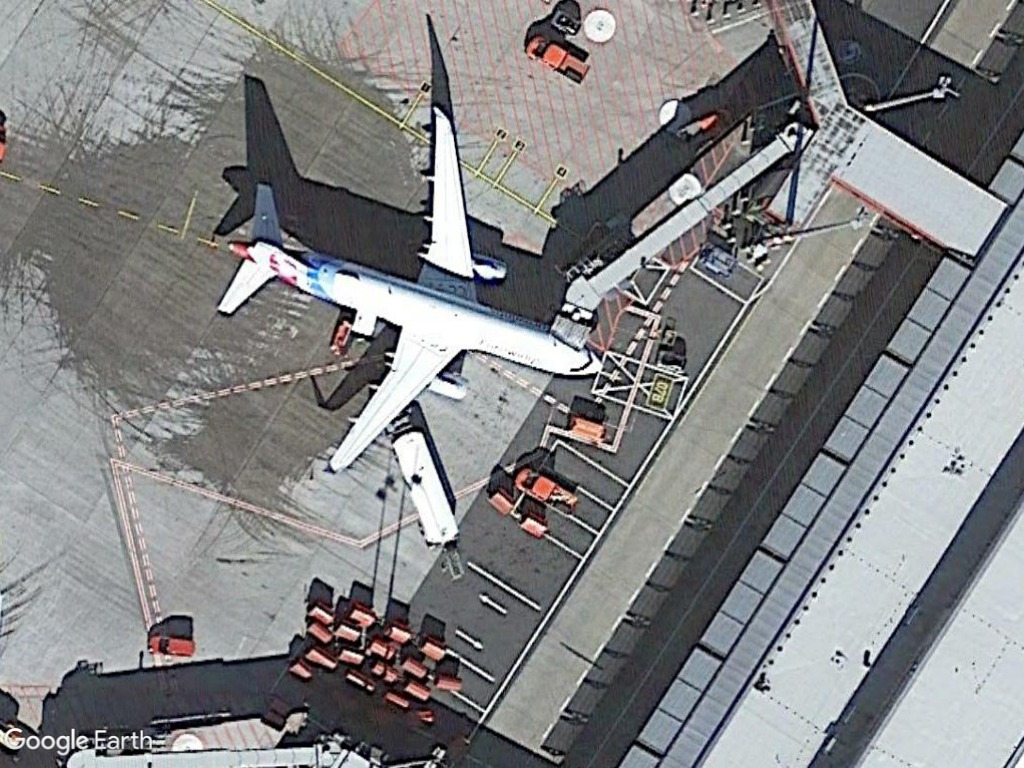airliner: (201, 98, 614, 483)
longvehicle: (387, 425, 464, 552)
